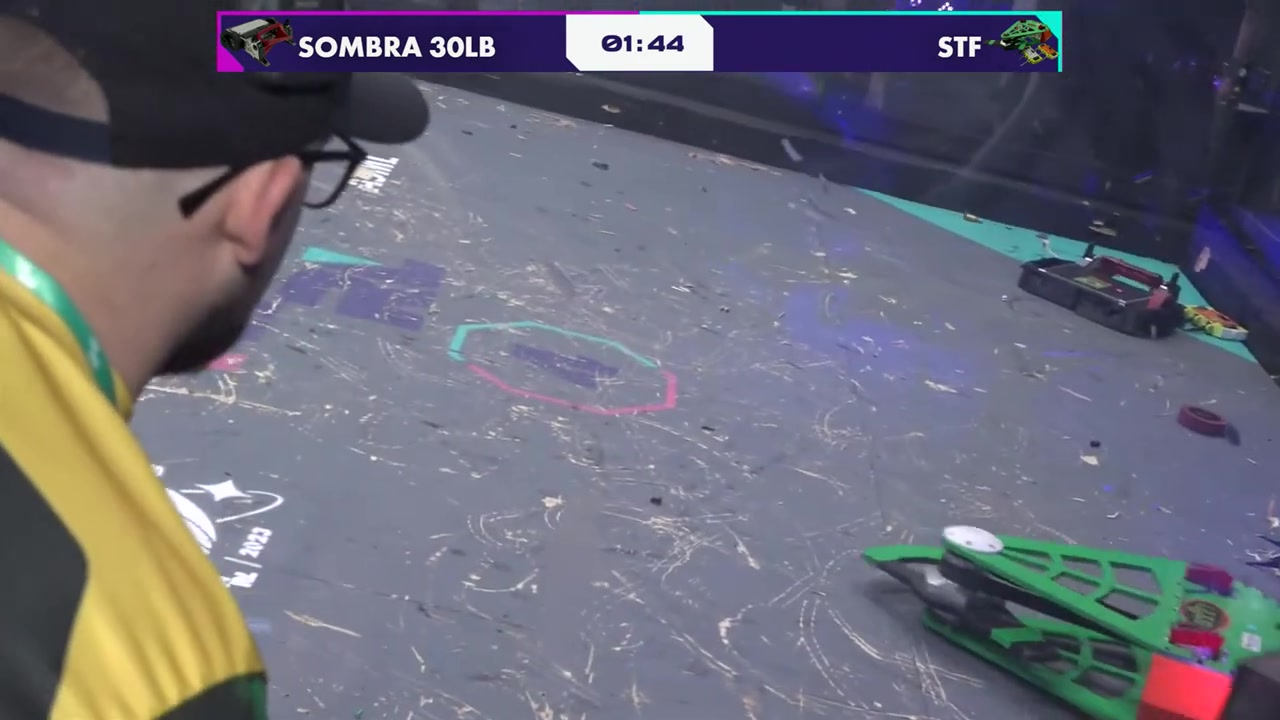combatbot: (943, 526, 1279, 720), (1019, 259, 1181, 343)
minibot: (1189, 304, 1247, 342)
wheel: (1182, 404, 1226, 437)
